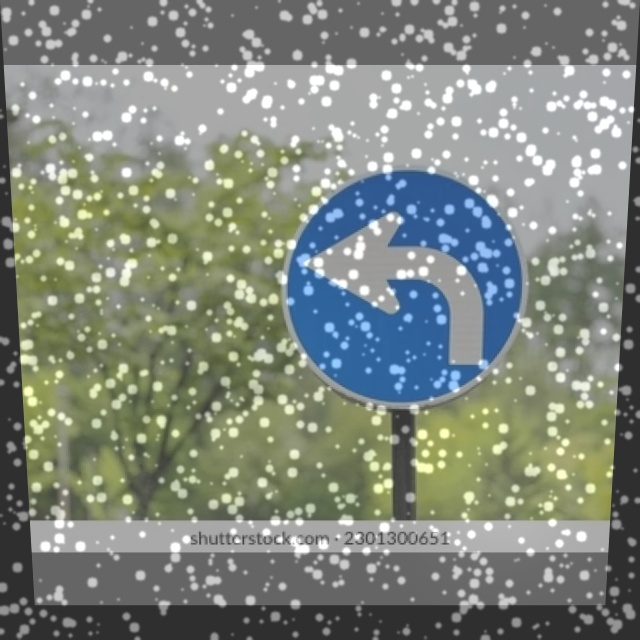Compulsory_Turn_Left_Ahead: (276, 166, 532, 409)
